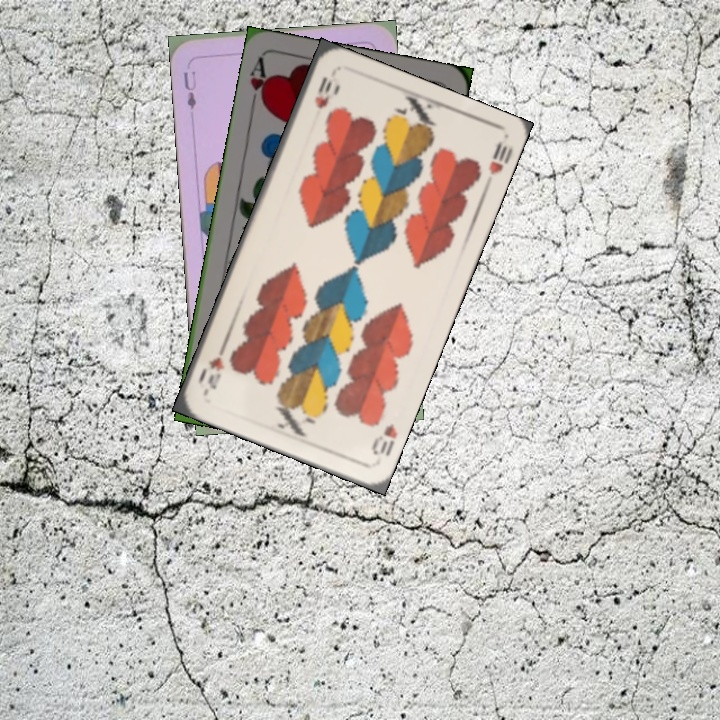EU: (179, 67, 199, 119)
H10: (367, 419, 400, 458), (310, 72, 335, 111)
HA: (246, 54, 273, 113)
